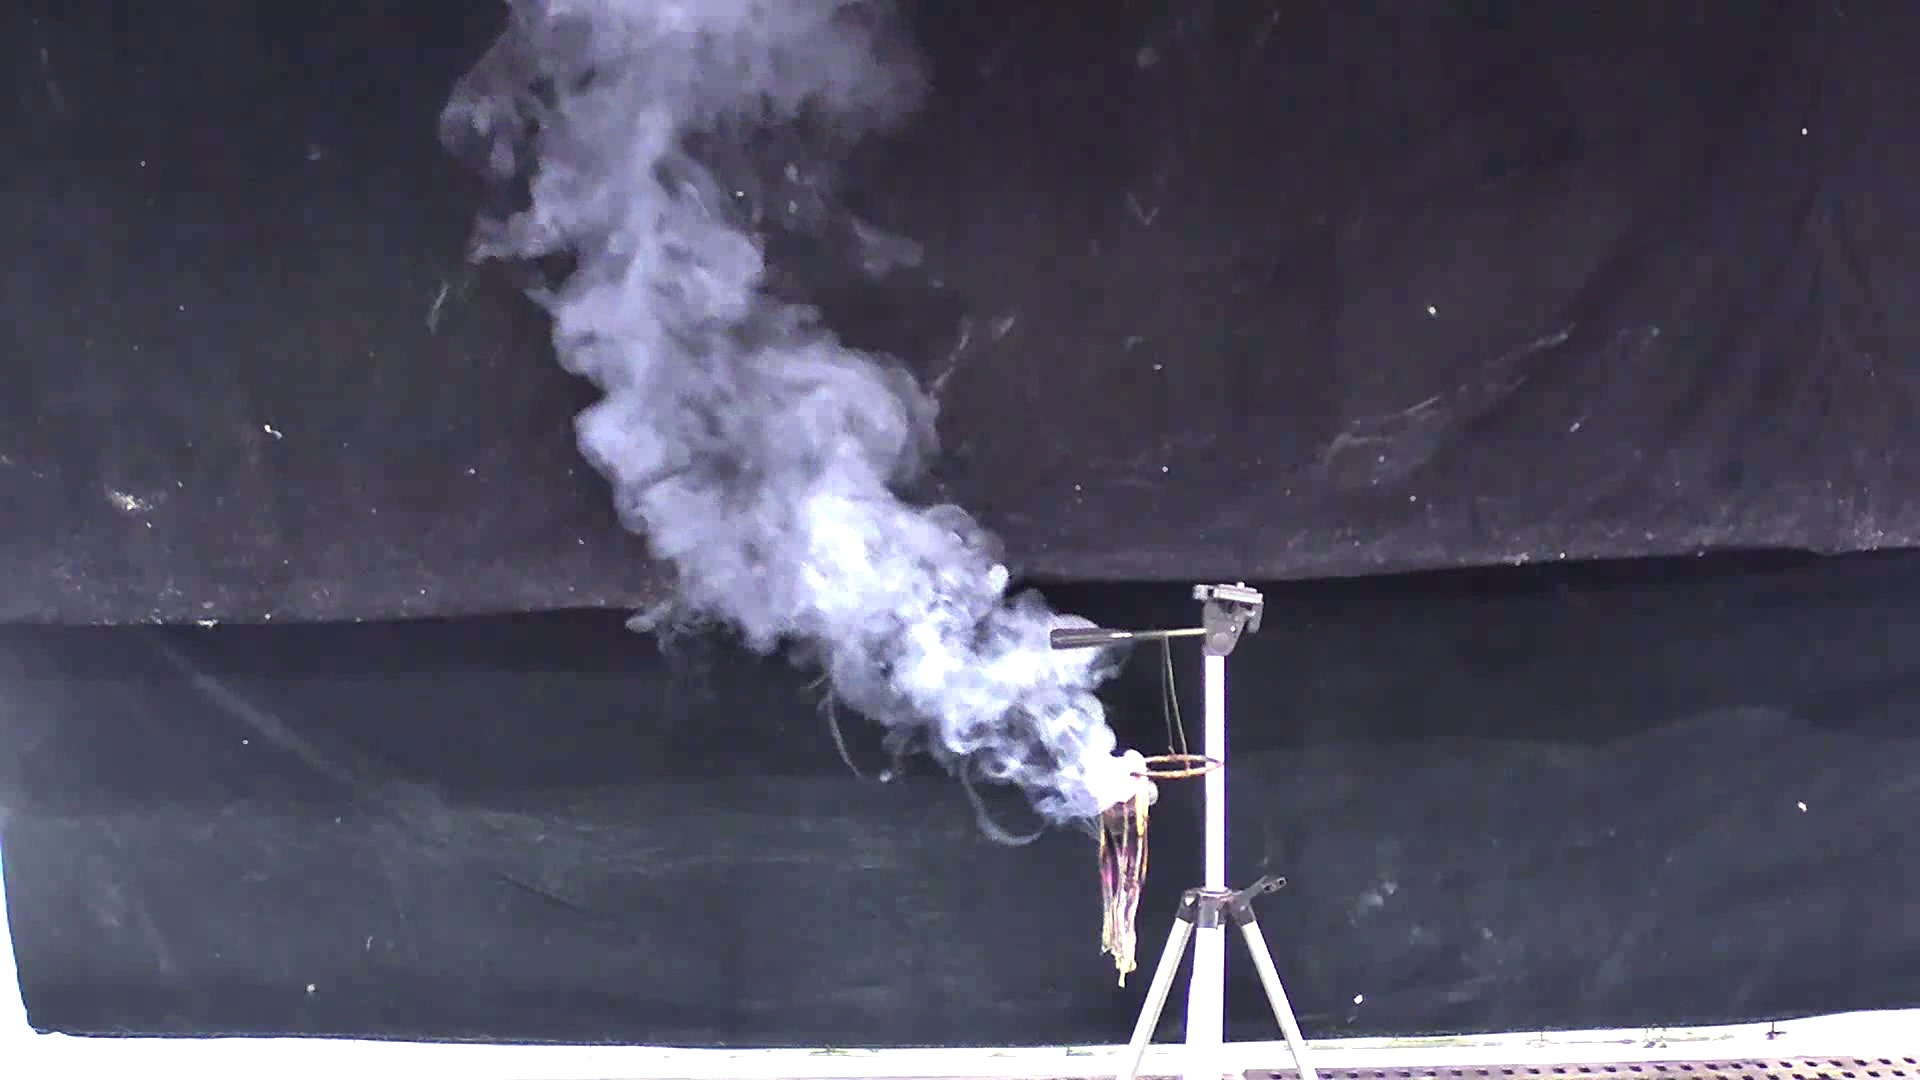smoke: (433, 1, 1154, 825)
